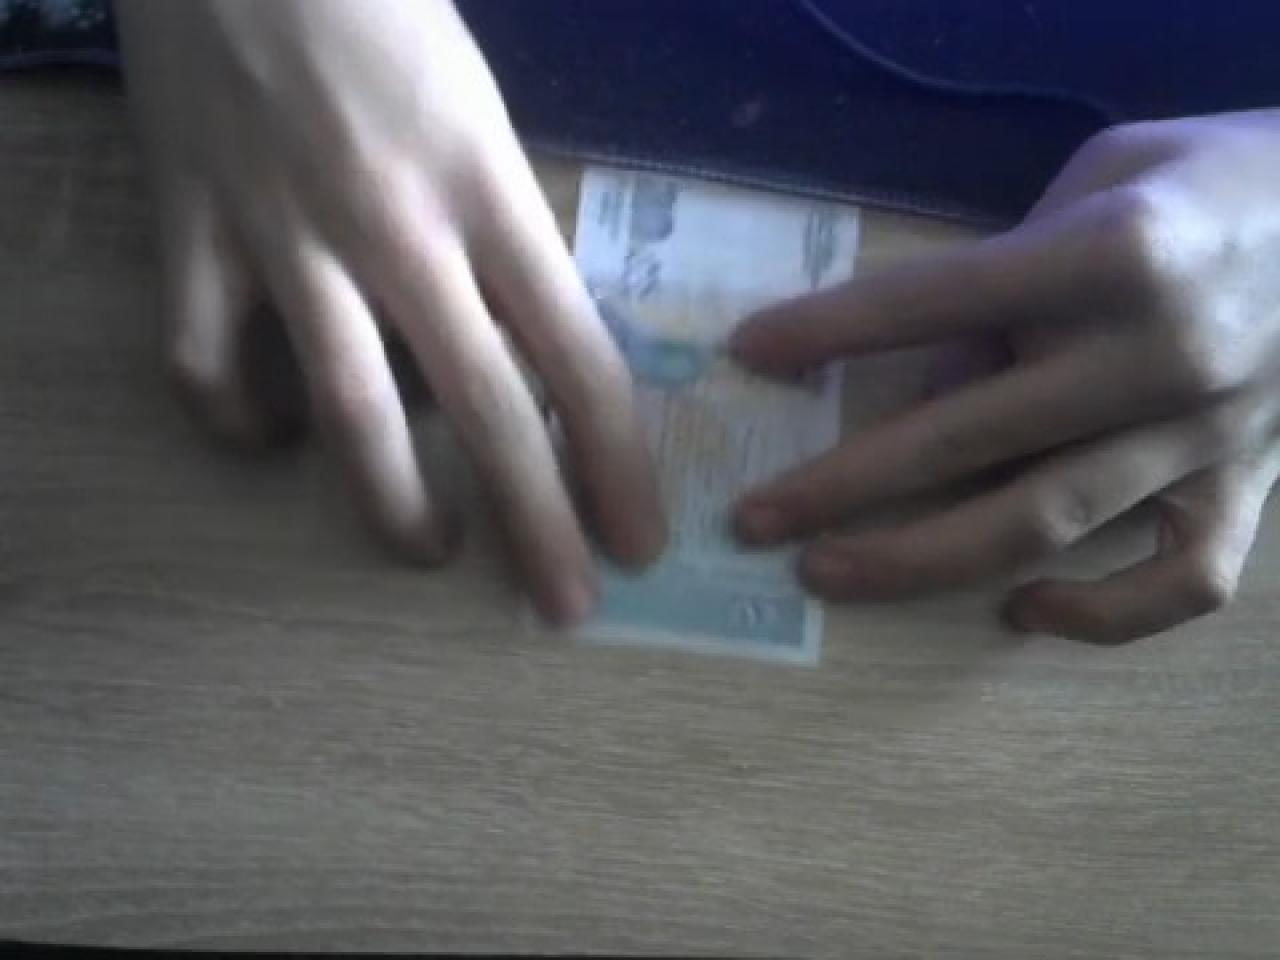20leva: (579, 384, 838, 667)
